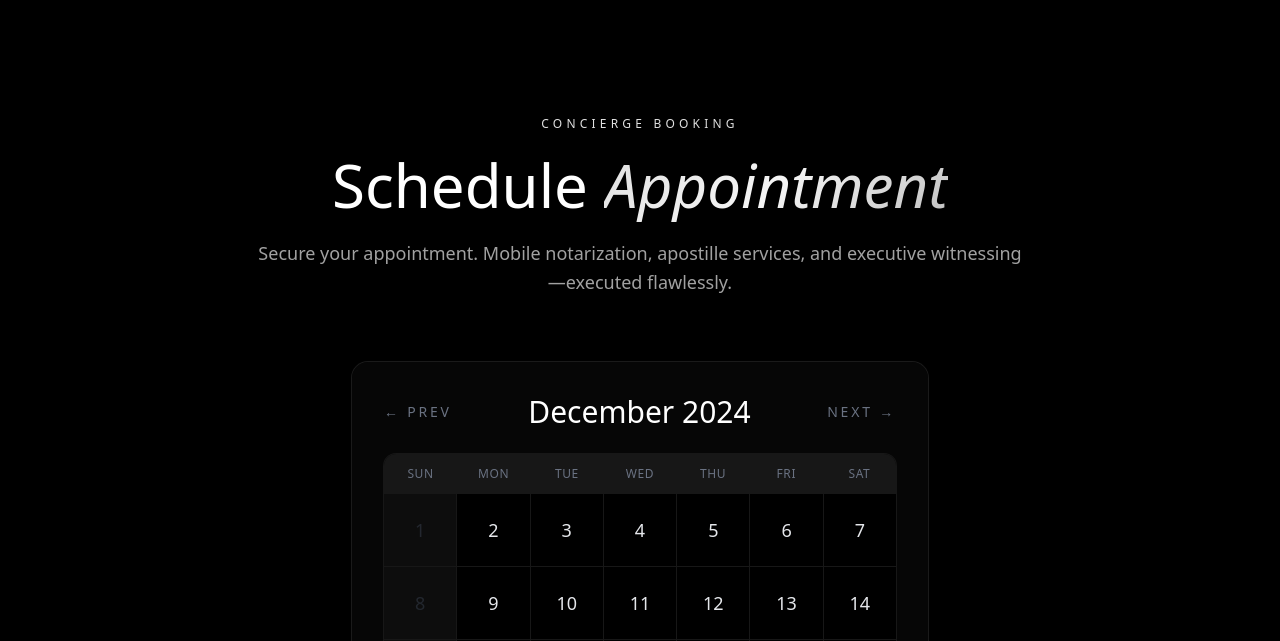
Test: BookingSection › reveals the form after picking a slot
This screenshot has width=1280, height=641.
Click the button "2".
click(493, 530)  # box top-left (457, 494), bottom-right (530, 566)
(page scrolled)
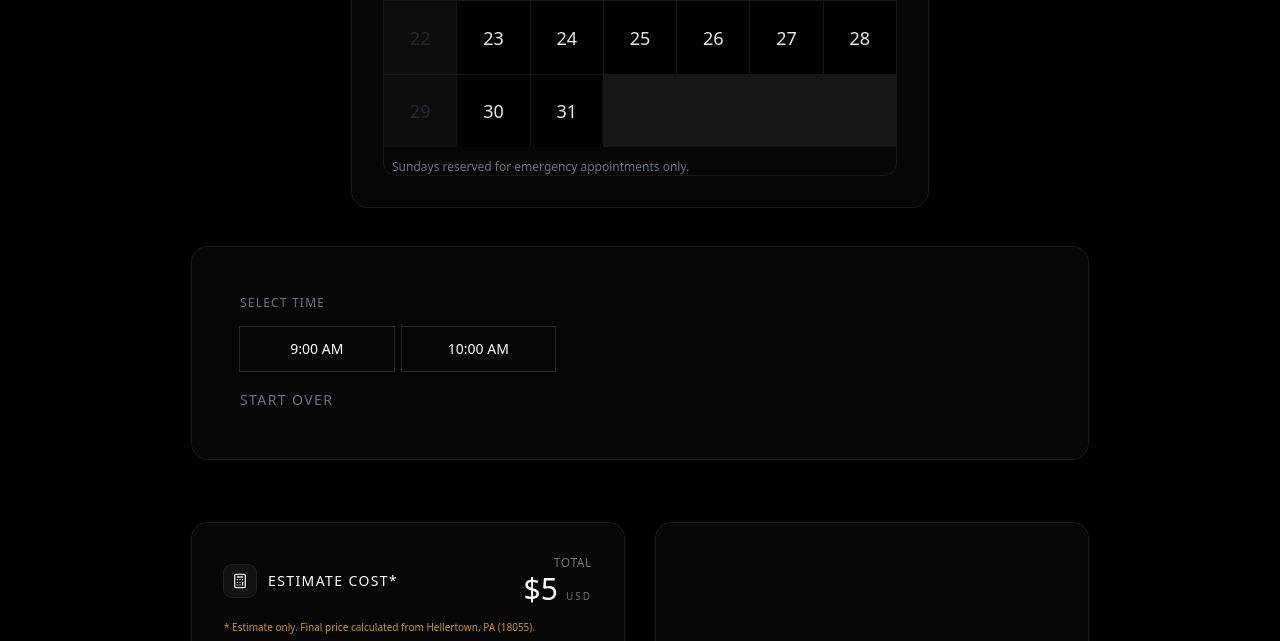
Now the button "9:00 AM" is shown
Click the button "9:00 AM".
click(317, 349)  # box top-left (240, 327), bottom-right (394, 371)
(page scrolled)
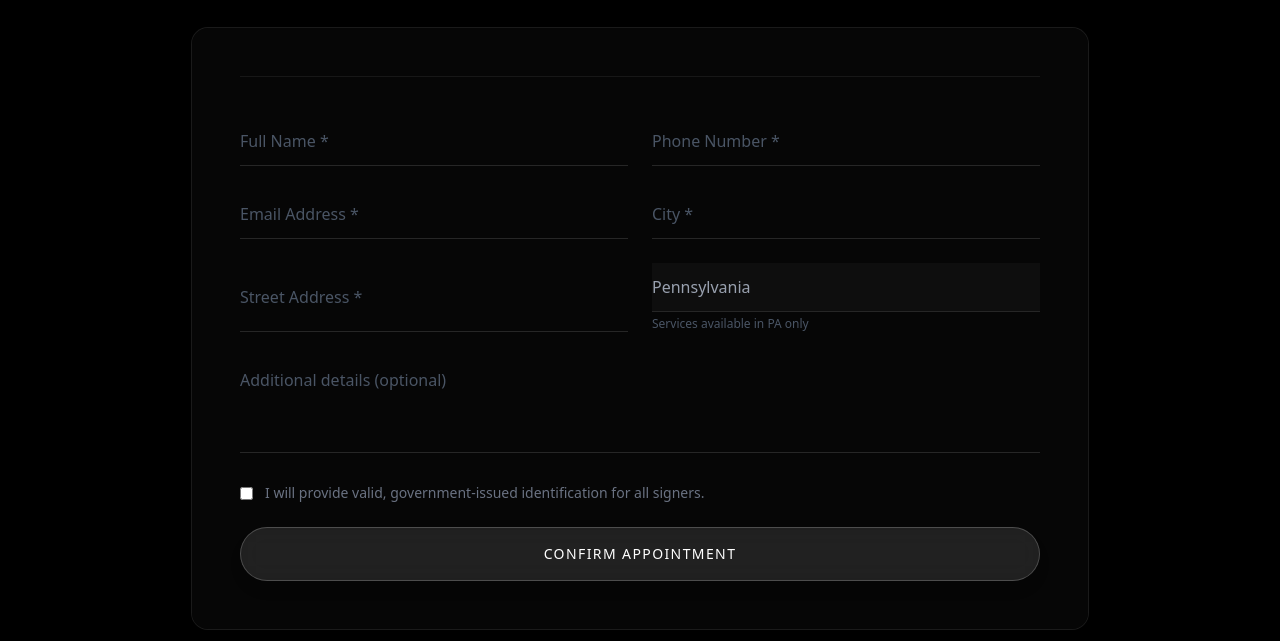
Now the form named "Booking form" is shown, box top-left (240, 117), bottom-right (1040, 581)
